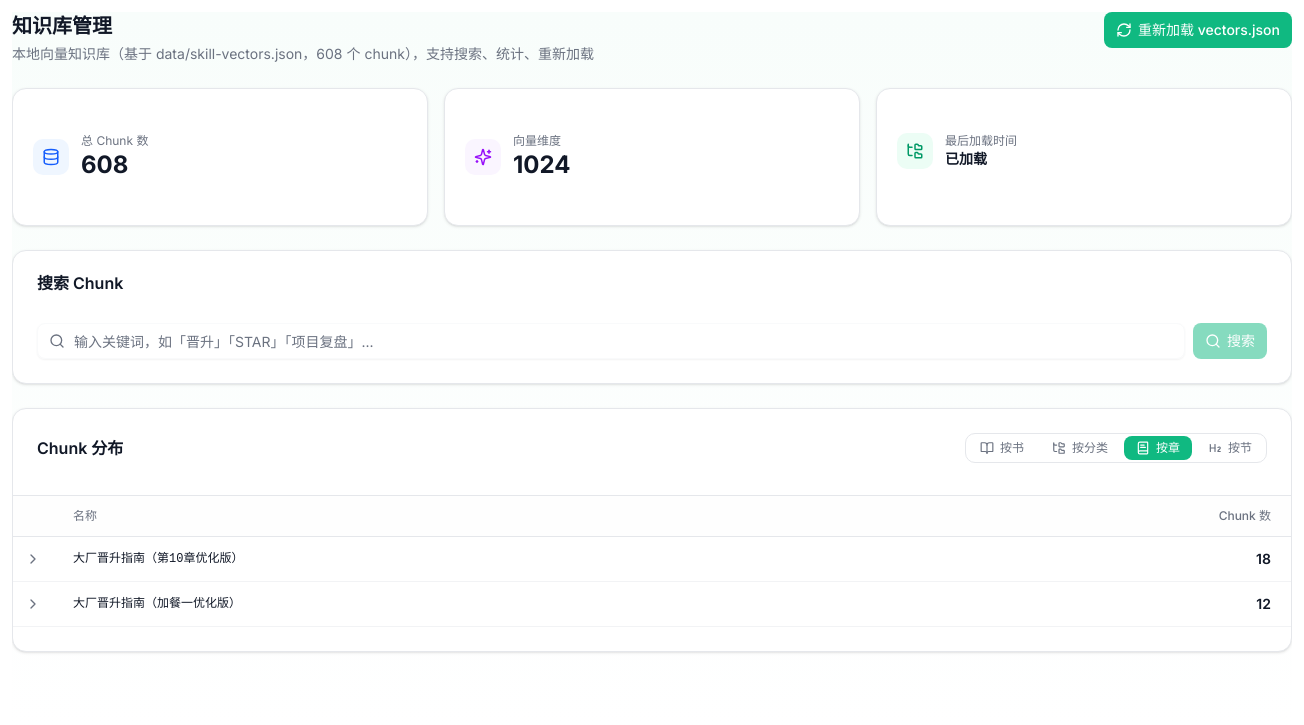
Test: KnowledgeTab — 4 维度分组（Phase 2F） › (d) 搜索结果展示 `book / doc_title` 头部（mono 字体）
Expected: the text "大厂晋升指南（第10章优化版）" is shown, [53,536,913,582]
Type "晋升" into the field with placeholder "输入关键词，如「晋升」「STAR」「项目复盘」..." at (611, 341), box [37,323,1185,359]
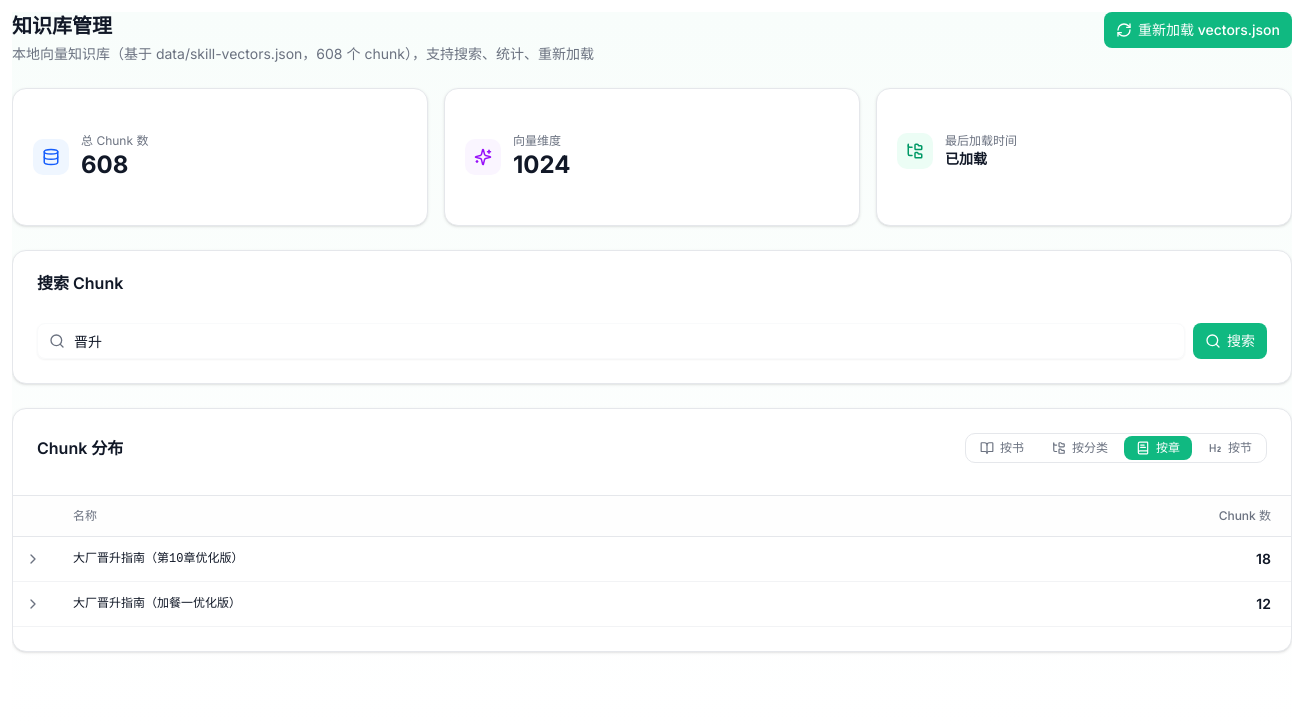
Click the button "搜索" at (1230, 341), box [1193,323,1267,359]
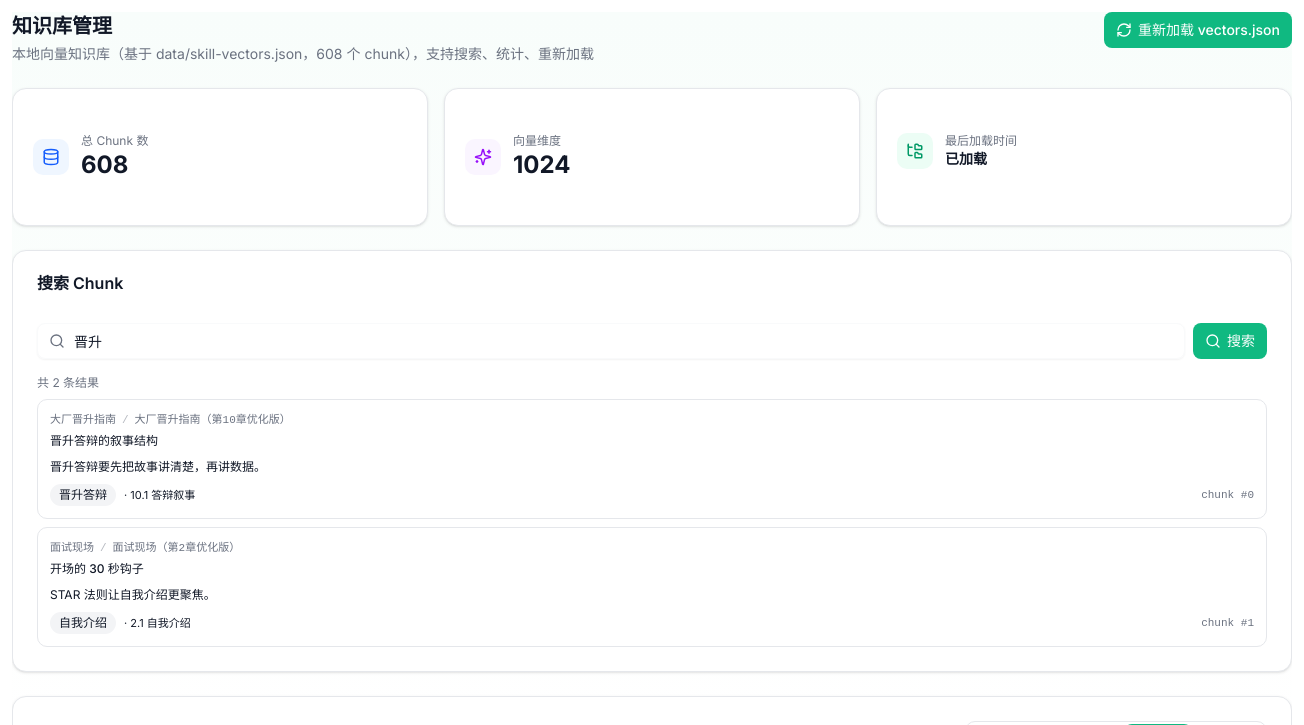
Result: the number of elements with test id "search-hit" is 2 at [37,399,1267,519]; [37,527,1267,647]
Result: the number of elements with test id "search-hit-topic" is 2 at [50,414,291,426]; [50,542,240,554]
Result: the element with test id "search-hit-topic" shows "大厂晋升指南" at [50,414,116,426]
